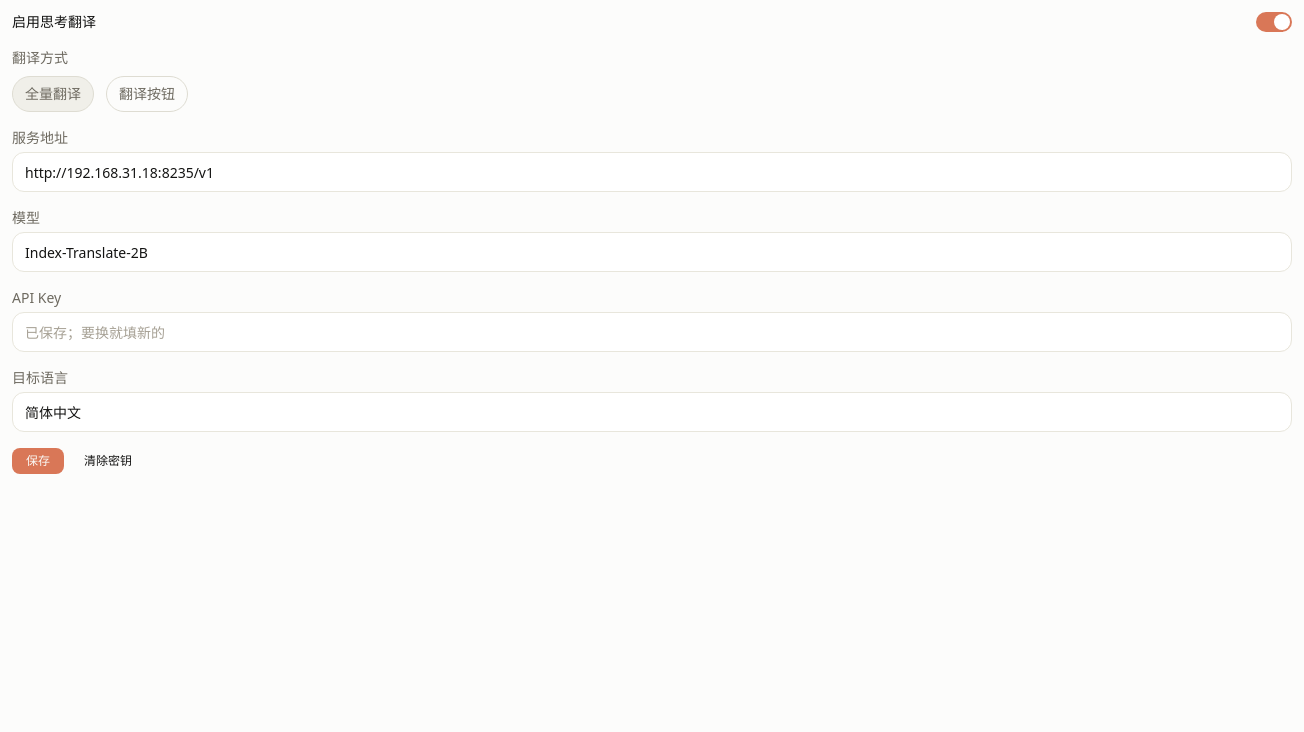
「思考翻译」组 › 已存过密钥：占位提示"要换就填新的"，「清除密钥」走翻译通道
Click the button with test id "translate-clear-key". click: (108, 461)
box: 76,448 -> 140,474
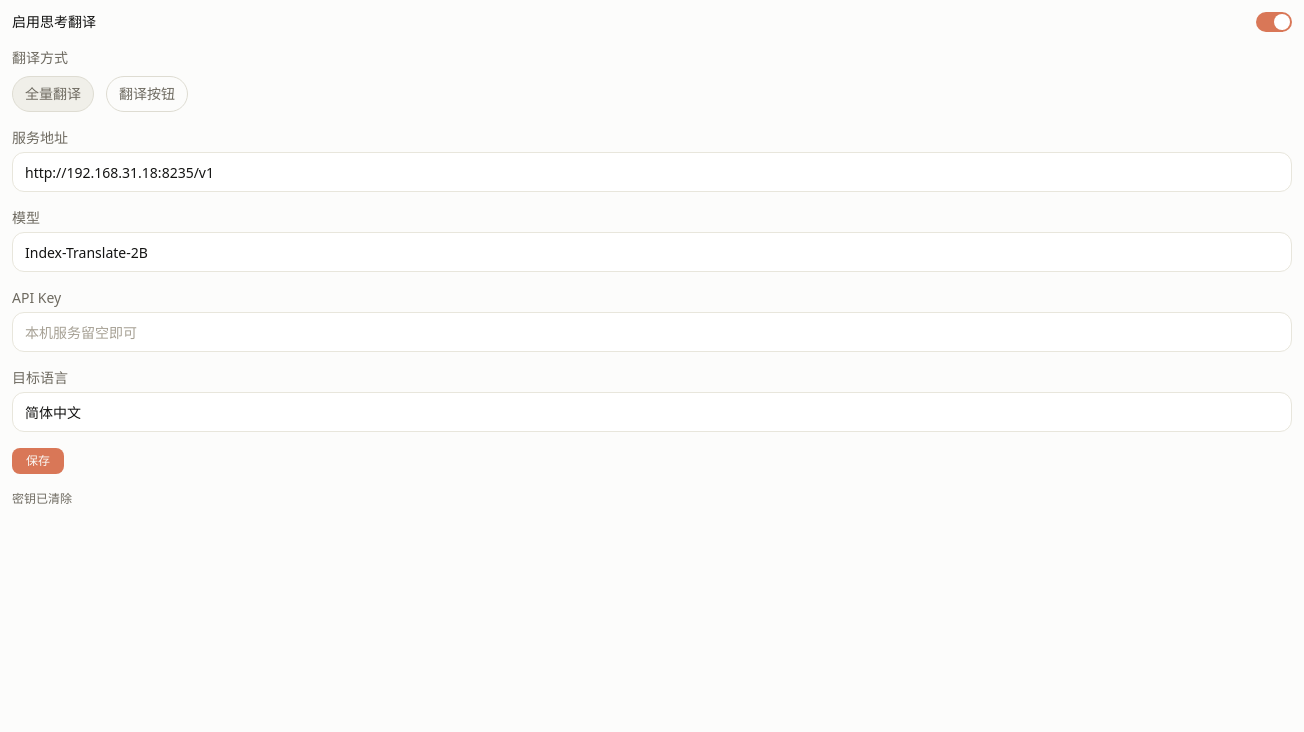
Result: the message with test id "translate-notice" reads "密钥已清除" at 12,490 -> 72,507
